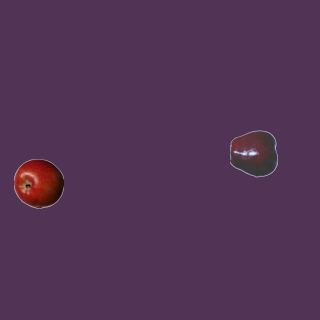Apple Braeburn: (13, 158, 63, 208)
Apple Red Delicious: (229, 128, 279, 178)
